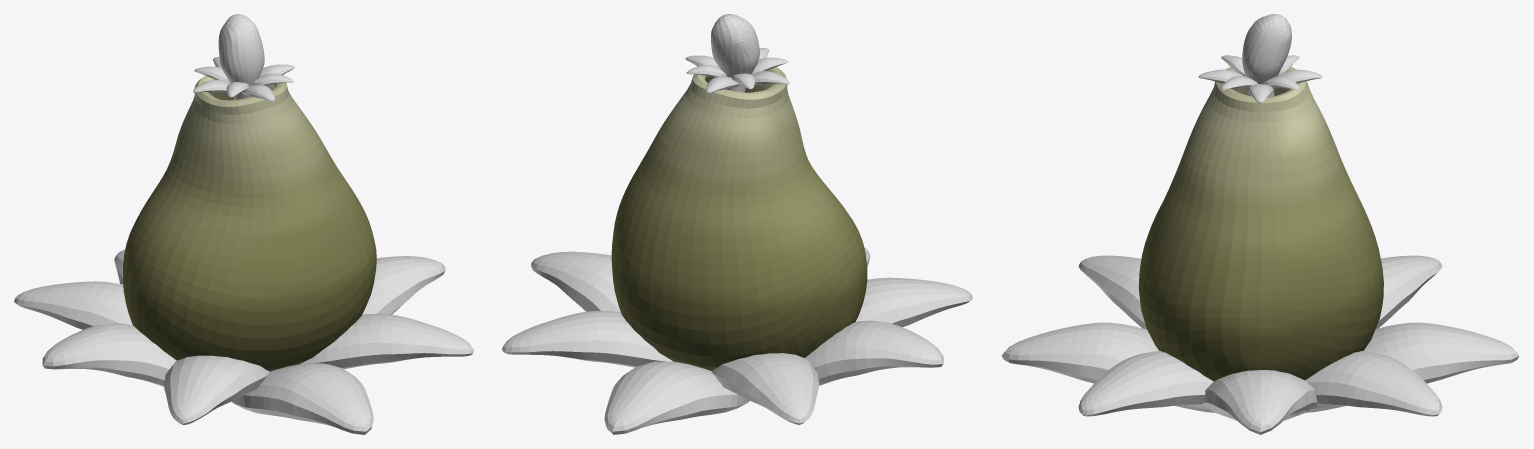
The model's file is SM_Plante1_01a_low.fbx.
The picture shows the model from 3 angles, left to right: view 1: azimuth 30°, elevation 25°; view 2: azimuth 150°, elevation 25°; view 3: azimuth 270°, elevation 25°; orthographic projection. The views are drawn at different scales.
Visible parts, largest first — view 1: PM3D_Sphere3D_1; view 2: PM3D_Sphere3D_1; view 3: PM3D_Sphere3D_1.
Boxes of the visible parts, x1,y1,x2,y2 form: PM3D_Sphere3D_1: [14, 14, 473, 434]; PM3D_Sphere3D_1: [502, 14, 972, 434]; PM3D_Sphere3D_1: [1001, 14, 1519, 434].
Size of the model in its own units: 2.76 by 2.41 by 2.9.
